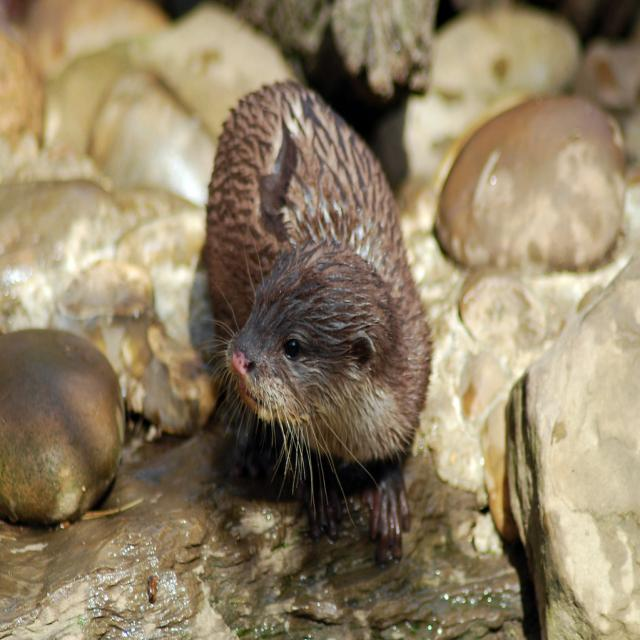otter: (209, 82, 430, 469)
